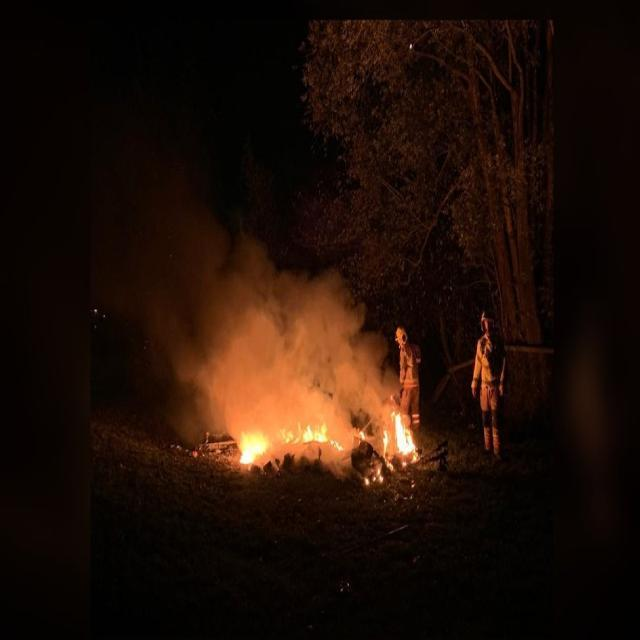Fire: (236, 429, 356, 473), (382, 412, 417, 467)
Smoke: (207, 274, 392, 428)
